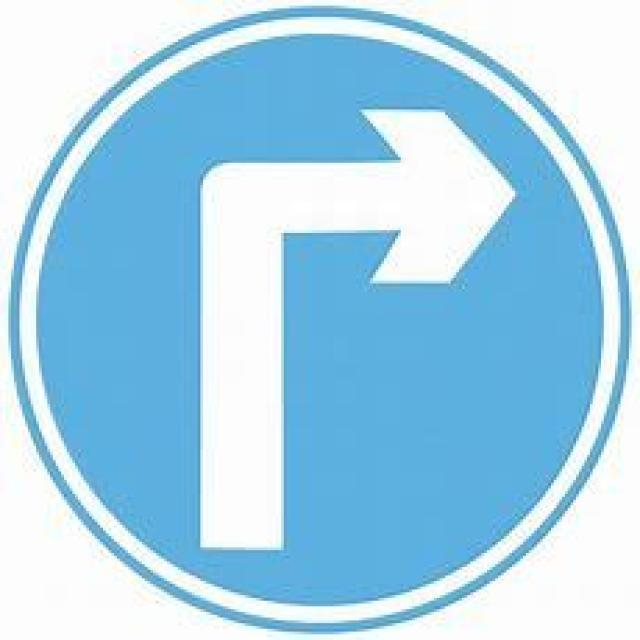compulsary turn right ahead: (33, 32, 610, 609)
